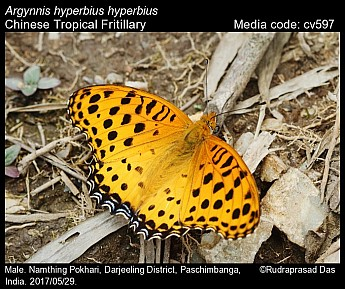Argyreus hyperbius: (62, 54, 265, 242)
butterfly: (64, 56, 267, 244)
